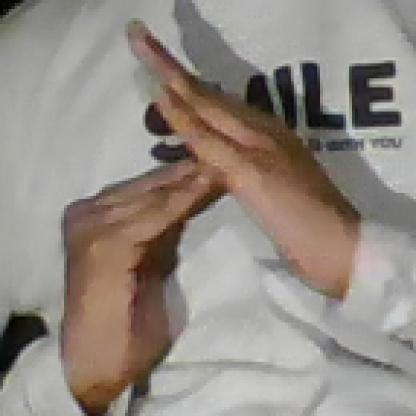Z: (64, 14, 338, 395)
